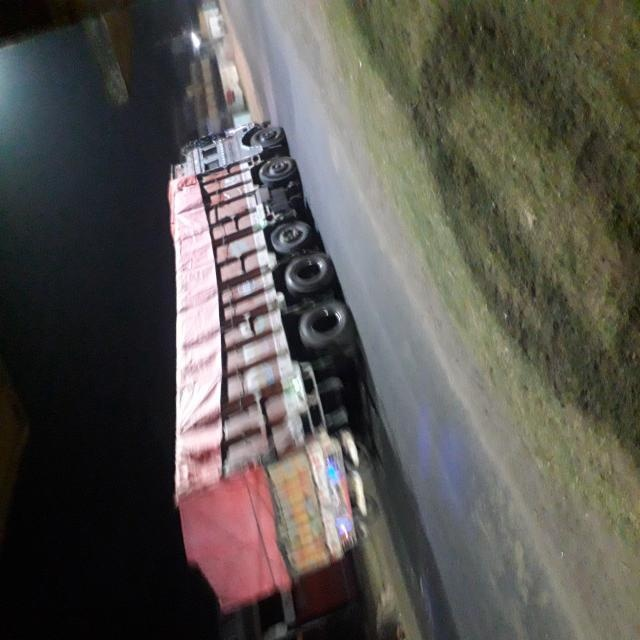Truck: (152, 106, 382, 630)
